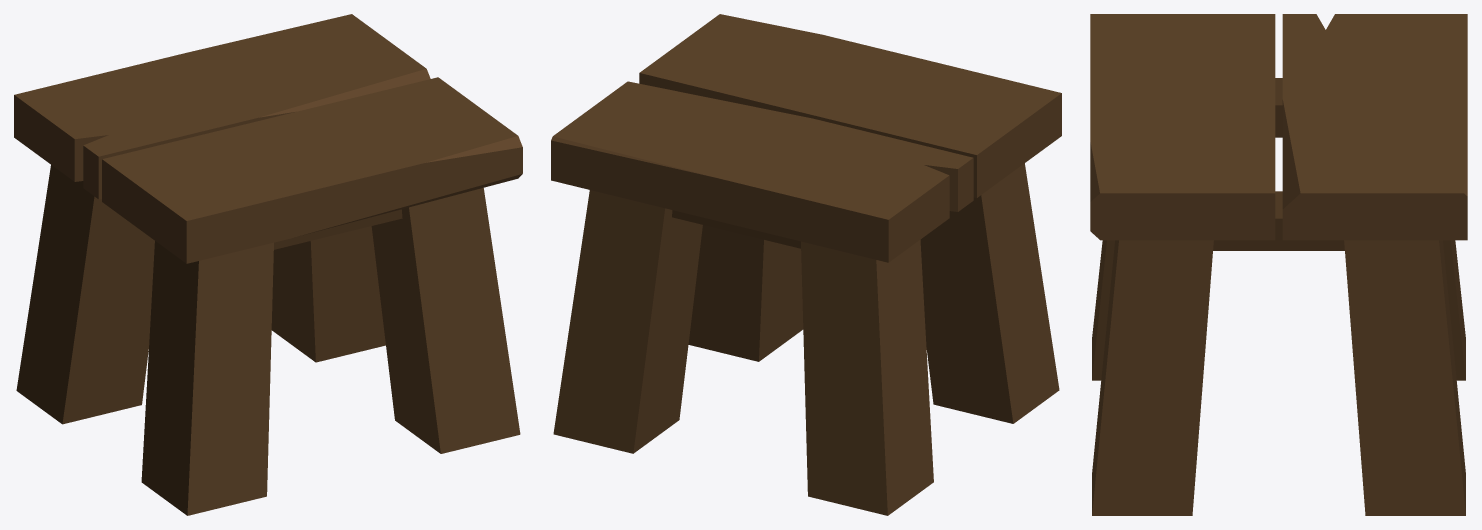
Rendered from Chair_01.fbx.
3 views of the same model, side by side, from view 1: azimuth 30°, elevation 25°; view 2: azimuth 150°, elevation 25°; view 3: azimuth 270°, elevation 25° (orthographic). The views are drawn at different scales.
Visible parts, largest first — view 1: Chair_01_LOD0; view 2: Chair_01_LOD0; view 3: Chair_01_LOD0.
Part boxes in pixels (<box>): Chair_01_LOD0: <box>14,14,522,515</box>; Chair_01_LOD0: <box>551,14,1061,515</box>; Chair_01_LOD0: <box>1090,14,1467,515</box>.
Size of what is drawn, in the model's own units: 0.4911 by 0.4129 by 0.4365.
